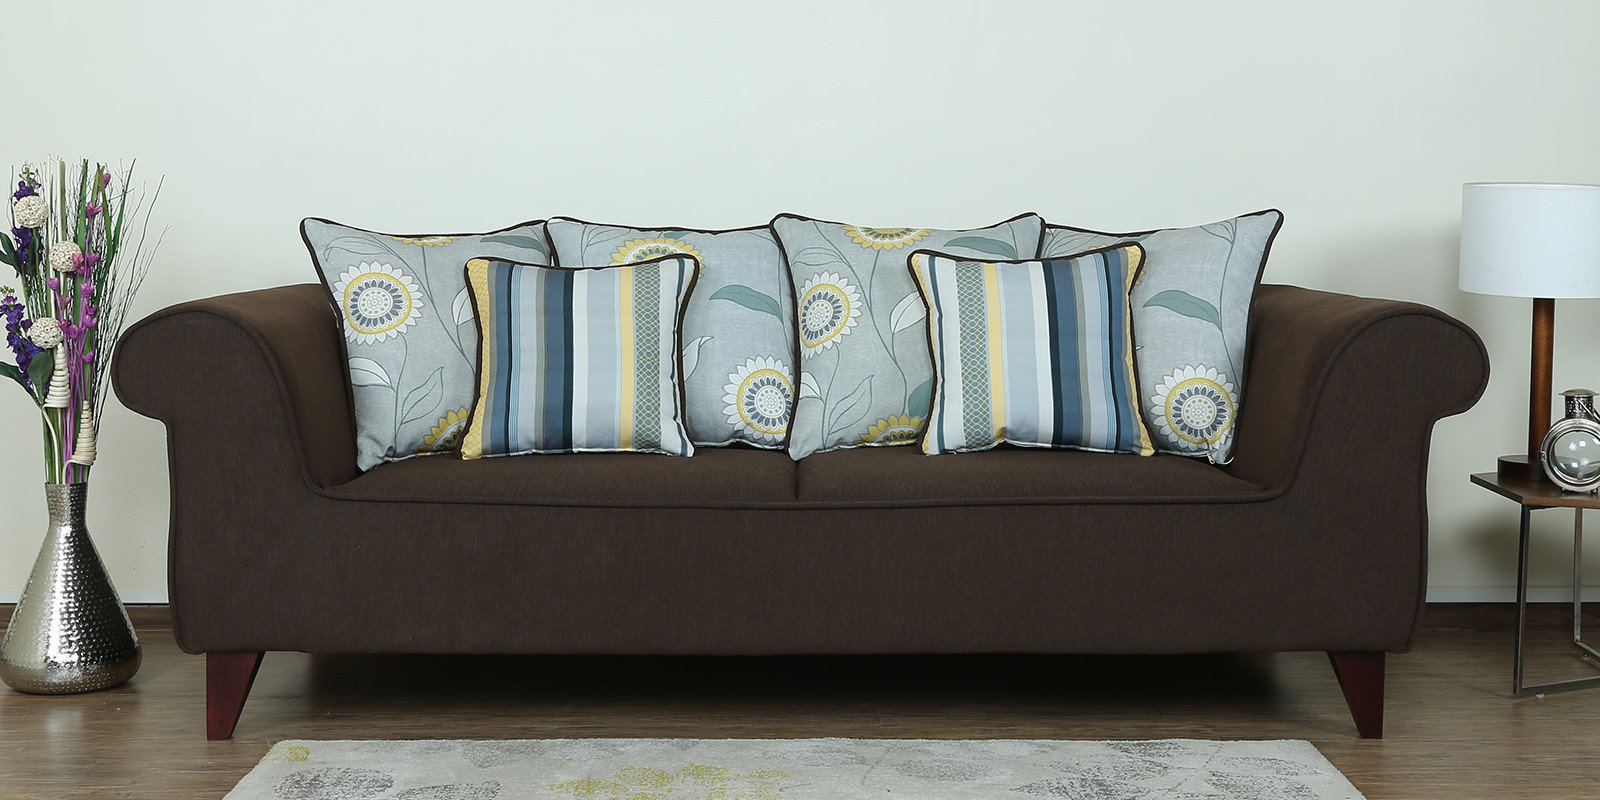Cielo Three Seater Sofa in Chestnut Brown Colour by CasaCraft: (114, 192, 1497, 726)
